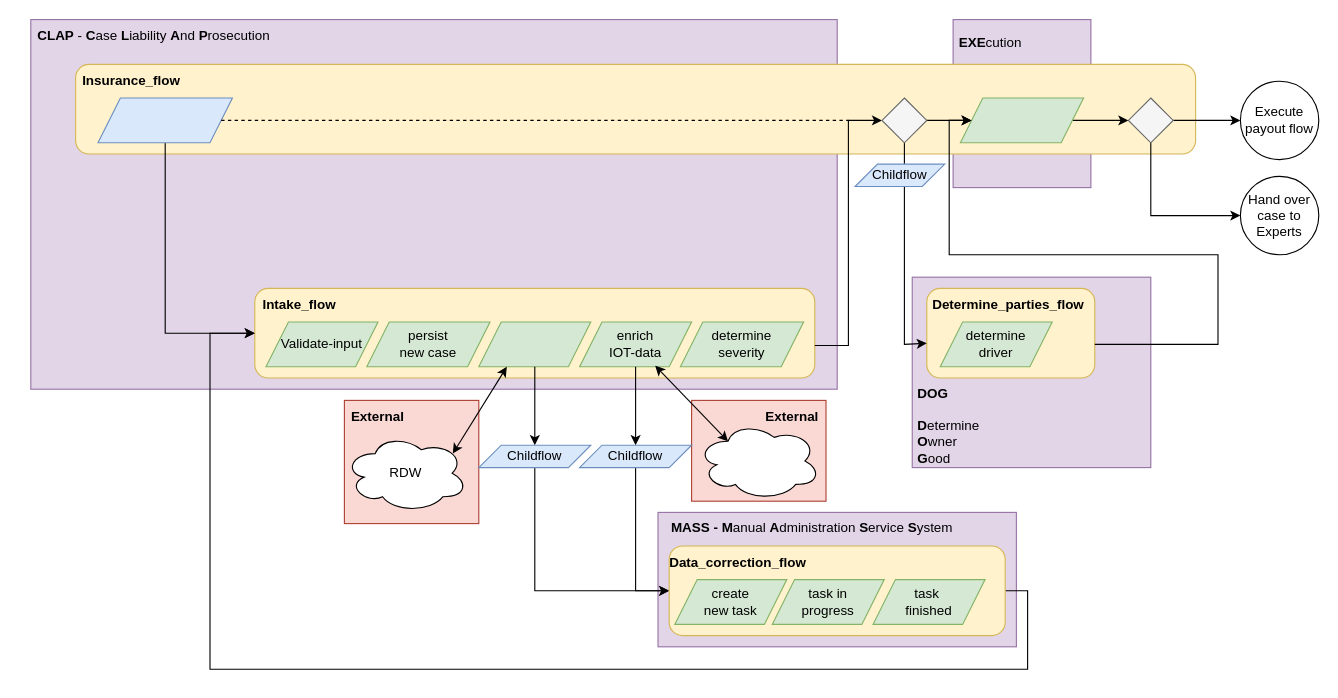
Image size: 1338x698. Some labels were removed from this diagram. The shapes that lost their labels are listed below. From the top down, each one's box as (x1, y1, x2, y2) in pixels, then its label:
(97, 97, 232, 143): Childflow Intake_flow
(959, 97, 1084, 143): prepare to execution
(478, 321, 591, 367): enrich RDW-data
(696, 421, 820, 500): IOT
